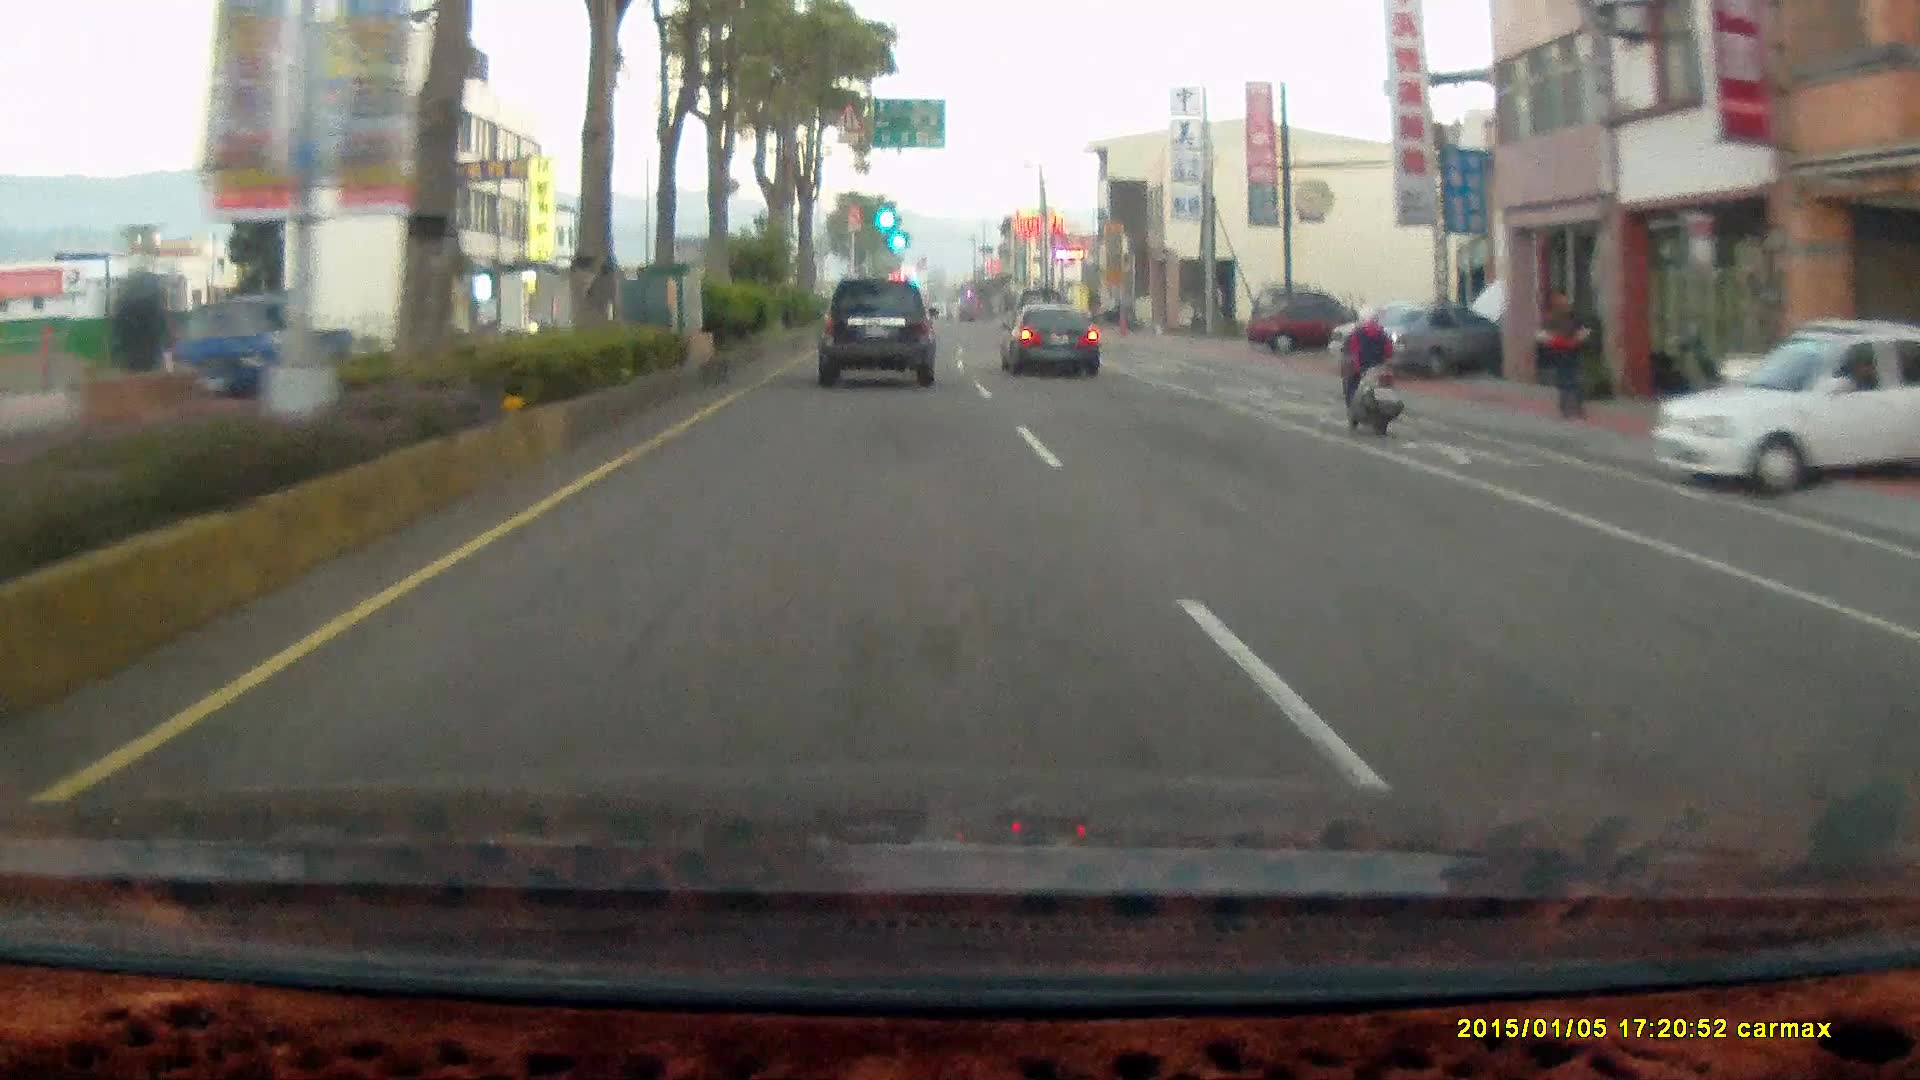pedestrian: (1534, 281, 1598, 422)
rider: (1323, 292, 1417, 449), (1334, 291, 1403, 424)
vehicle: (1653, 318, 1920, 504), (1650, 321, 1919, 498), (161, 286, 359, 416), (816, 276, 943, 391), (1335, 296, 1511, 378), (1327, 303, 1511, 379), (815, 277, 938, 386), (1244, 299, 1382, 359), (1000, 301, 1101, 375), (1002, 303, 1104, 376), (1244, 299, 1379, 352)
